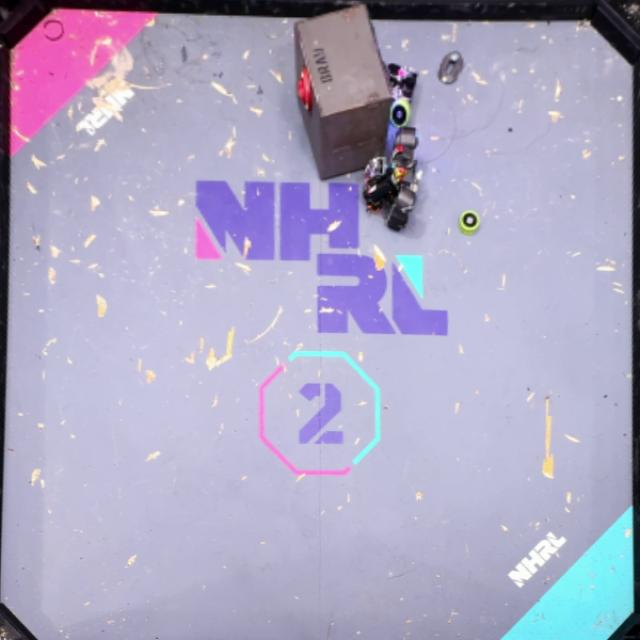housebot: (294, 3, 391, 181)
robot: (363, 126, 418, 233), (381, 61, 418, 127)
